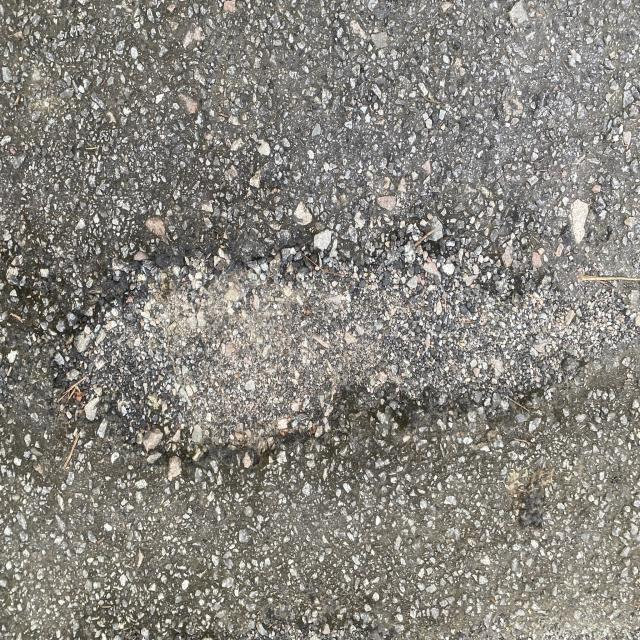pothole: (115, 170, 501, 496)
